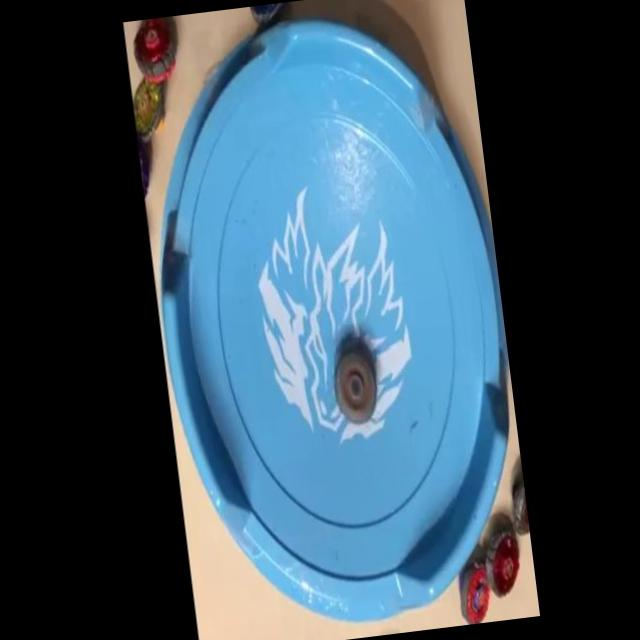Beyblade: (330, 346, 380, 427), (128, 15, 182, 86), (482, 526, 526, 598), (128, 75, 168, 142), (456, 562, 494, 624)
